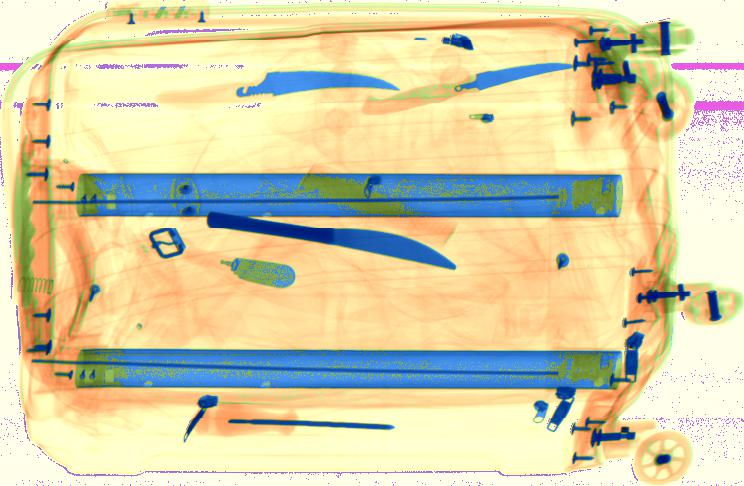Knife: (204, 212, 457, 271), (156, 60, 398, 110), (361, 59, 574, 114), (216, 255, 297, 291)
